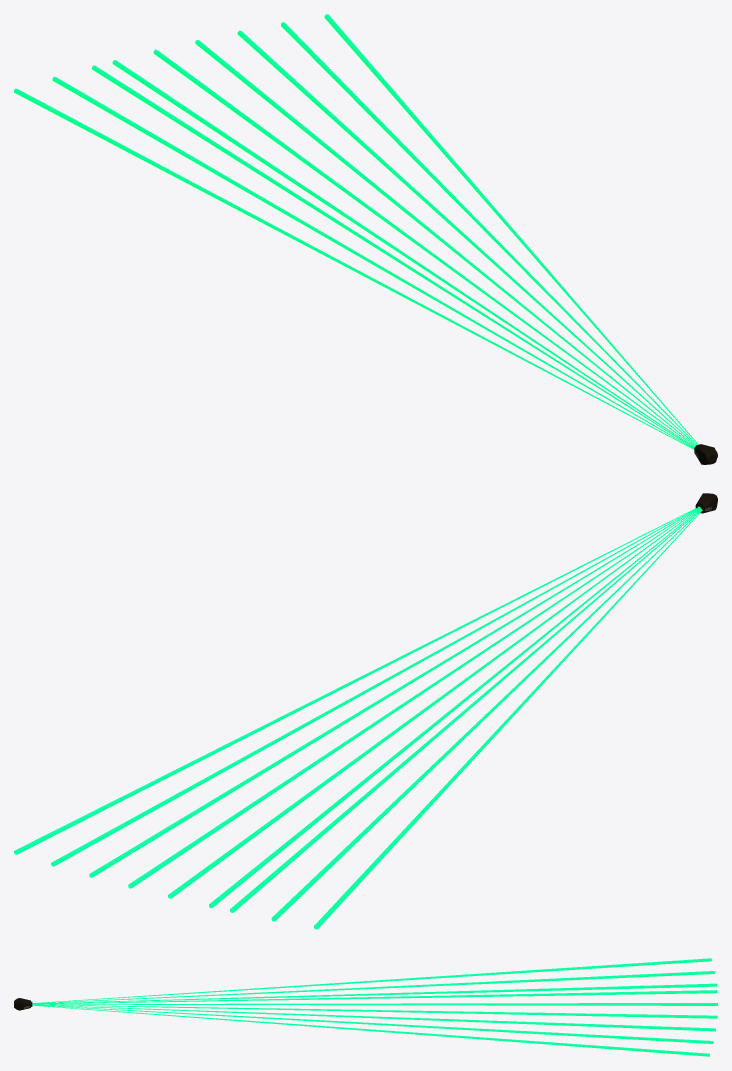
The model's file is ARC0810095.fbx.
3 views of the same model, one above another, from view 1: azimuth 30°, elevation 25°; view 2: azimuth 150°, elevation 25°; view 3: azimuth 270°, elevation 25° (orthographic). The views are drawn at different scales.
Parts seen in each view (by area): view 1: smARC0810095; view 2: smARC0810095; view 3: smARC0810095.
Boxes of the visible parts, x1,y1,x2,y2 form: smARC0810095: (14,14,717,464); smARC0810095: (14,493,717,929); smARC0810095: (14,958,717,1056).
Size of the model in its own units: 1070 by 45 by 3294.
Materials: 1 (1 with a texture image).
